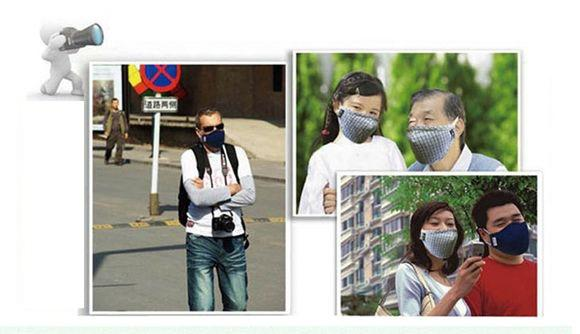OK: (410, 113, 461, 163), (484, 213, 530, 256), (340, 95, 384, 139), (199, 120, 229, 153)
WRONG: (420, 213, 459, 259)
